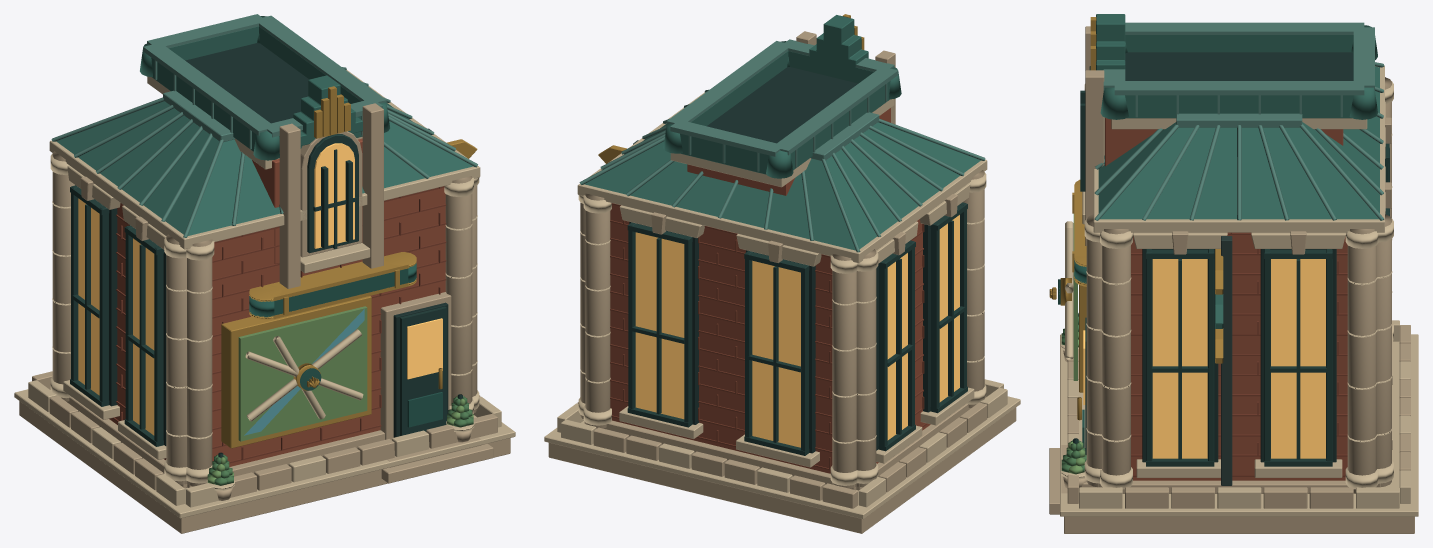
The picture shows the model from 3 angles, left to right: view 1: azimuth 30°, elevation 25°; view 2: azimuth 150°, elevation 25°; view 3: azimuth 270°, elevation 25°; orthographic projection. The views are drawn at different scales.
Parts seen in each view (by area): view 1: expansion_junction_hub_geometry; view 2: expansion_junction_hub_geometry; view 3: expansion_junction_hub_geometry.
Boxes of the visible parts, bbox=[...] form: expansion_junction_hub_geometry: bbox=[14, 14, 515, 533]; expansion_junction_hub_geometry: bbox=[544, 14, 1020, 533]; expansion_junction_hub_geometry: bbox=[1049, 14, 1418, 533].
Bounding box in the file's own units: 1.04 × 1.07 × 0.8328.
